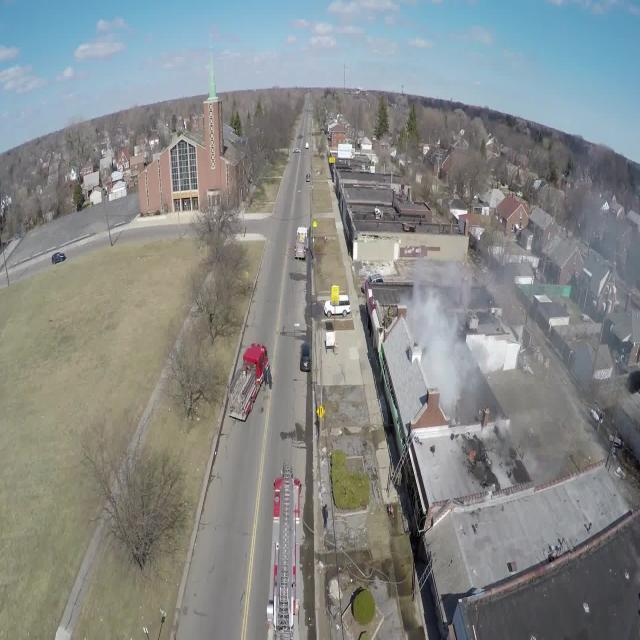Smoke: (401, 114, 640, 464)
